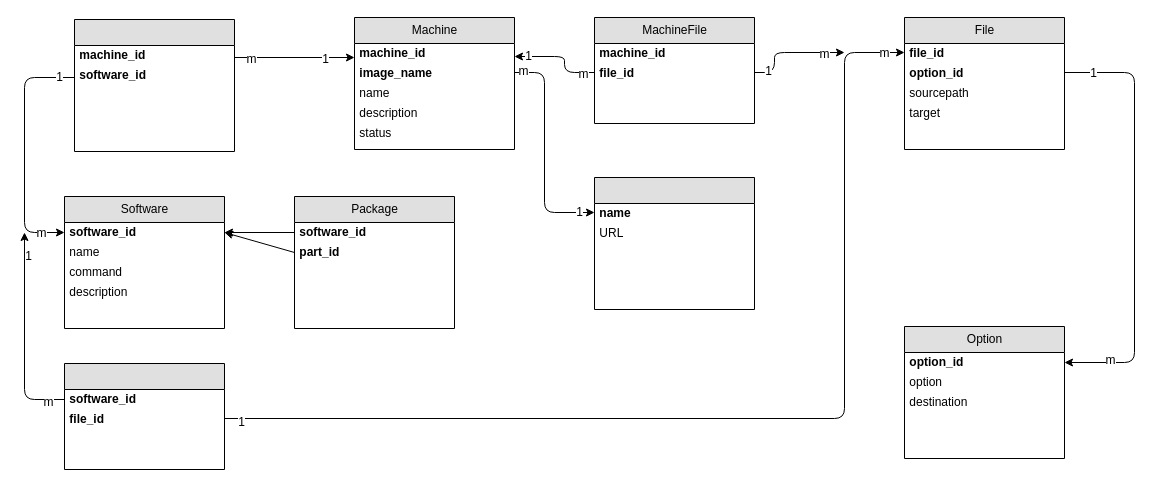
Image size: 1160x487. Some labels were removed from this diagram. The box of each missing label's shape, as (x1, y1, x2, y2) in pixels:
Image: (594, 176, 754, 310)
Machinesoftware: (74, 18, 234, 152)
SoftwareFile: (64, 362, 224, 470)
